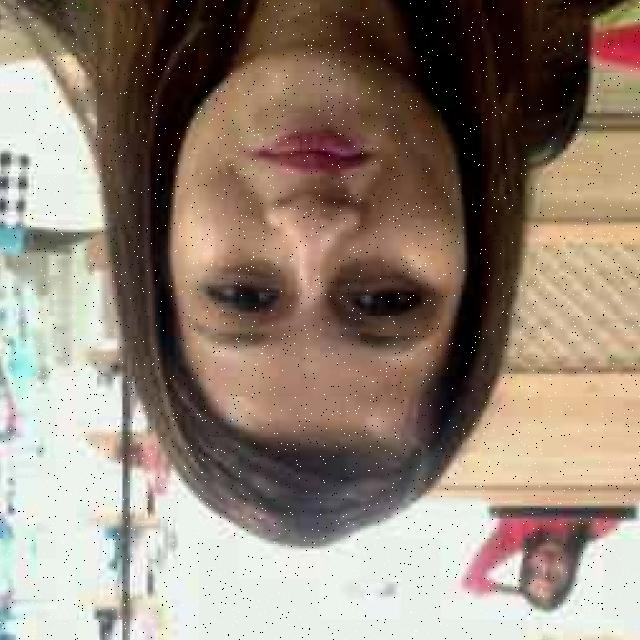puffy_eyes: (333, 261, 417, 285), (219, 261, 292, 285)
